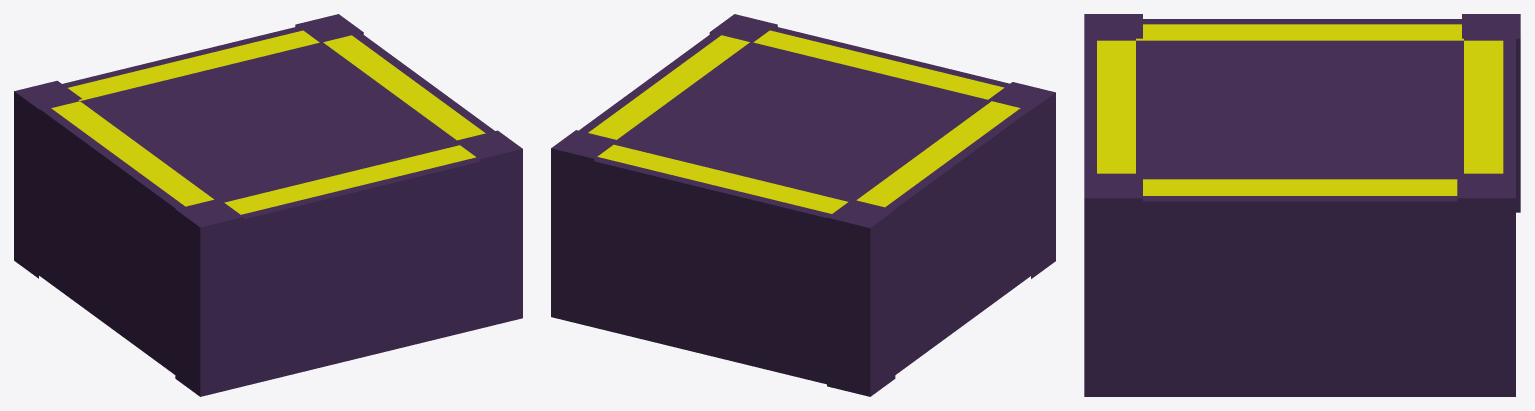
The model's file is SM_ground_floor.fbx.
3 renders of one model, left to right at view 1: azimuth 30°, elevation 25°; view 2: azimuth 150°, elevation 25°; view 3: azimuth 270°, elevation 25°, orthographic. The views are drawn at different scales.
Visible parts, largest first — view 1: floor_low, _edge; view 2: floor_low, _edge; view 3: floor_low, _edge.
Part boxes in pixels (x1=…): floor_low: x1=39, y1=26, x2=522, y2=395; _edge: x1=14, y1=14, x2=522, y2=396; floor_low: x1=551, y1=26, x2=1030, y2=384; _edge: x1=551, y1=14, x2=1055, y2=396; floor_low: x1=1084, y1=19, x2=1515, y2=396; _edge: x1=1084, y1=14, x2=1520, y2=396.
Bounding box in the file's own units: 101 × 50.75 × 101.
